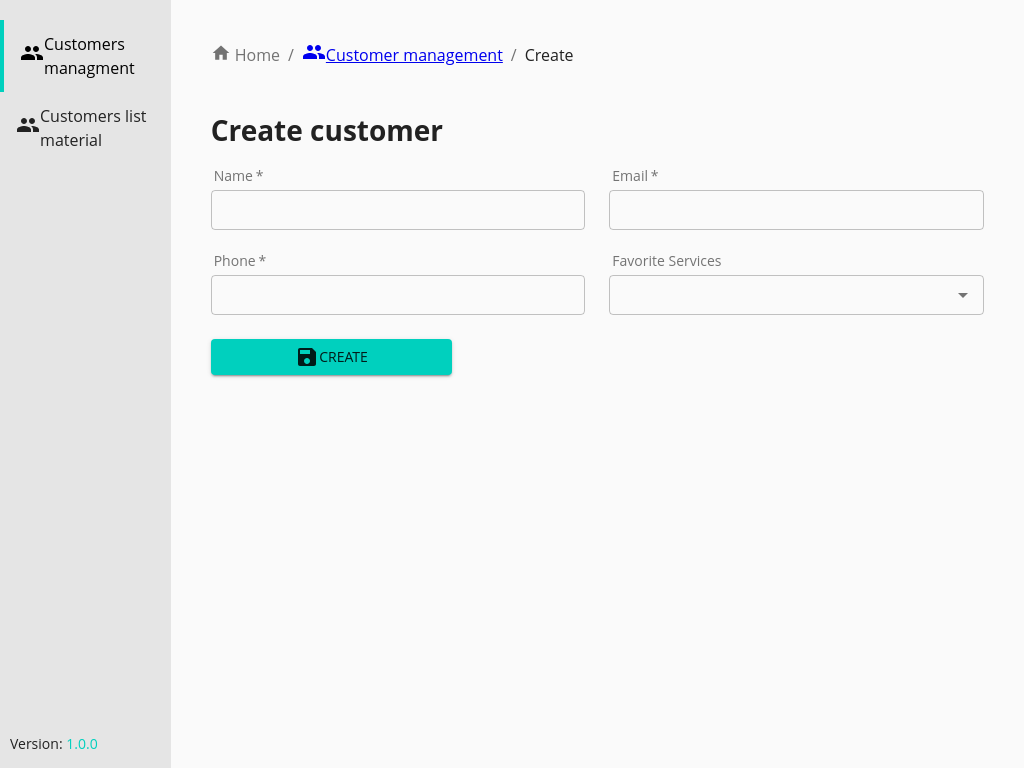
Test: Customers: Create Customer › Customer Form component › Test name input as Controlled component
The width and height of the screenshot is (1024, 768).
In the field named "name": (399, 210) [211,190,586,230], type "test"
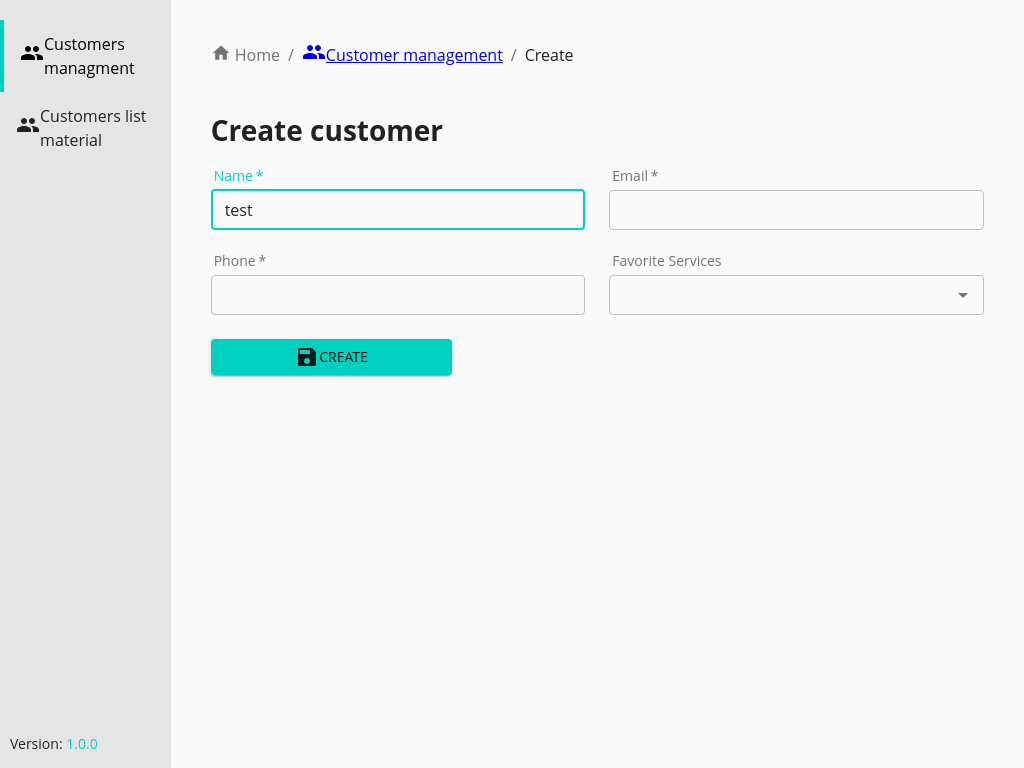
Clear the field named "name": (399, 210) [211,190,586,230]
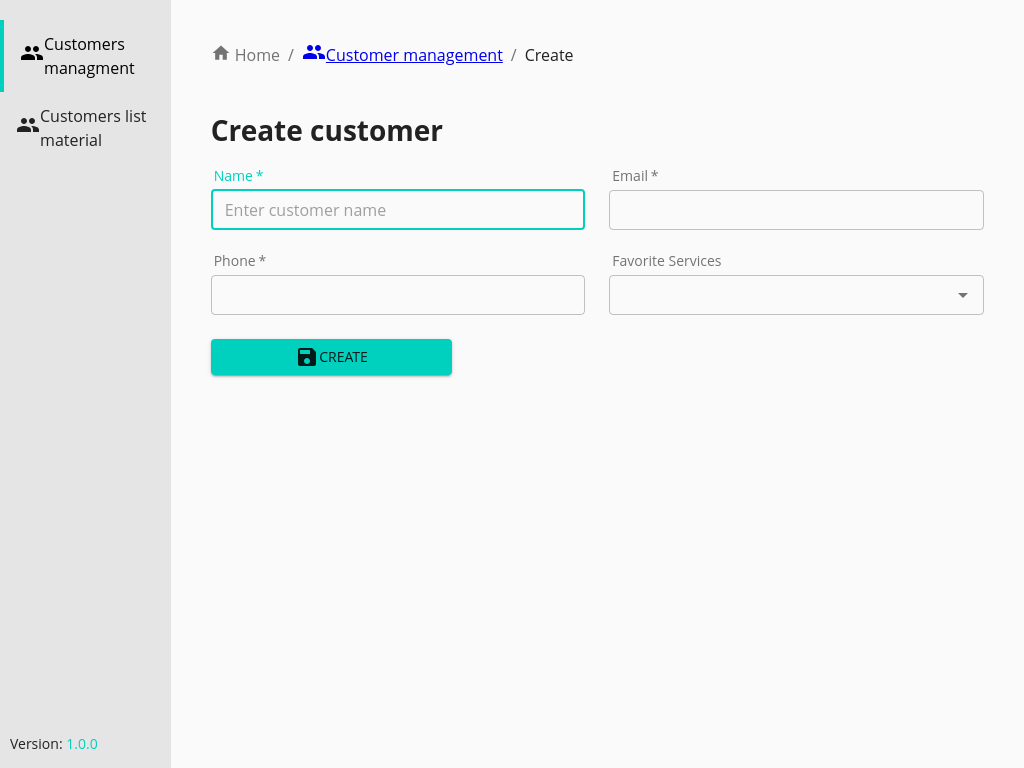
Leave the field named "name", box [211,190,586,230]
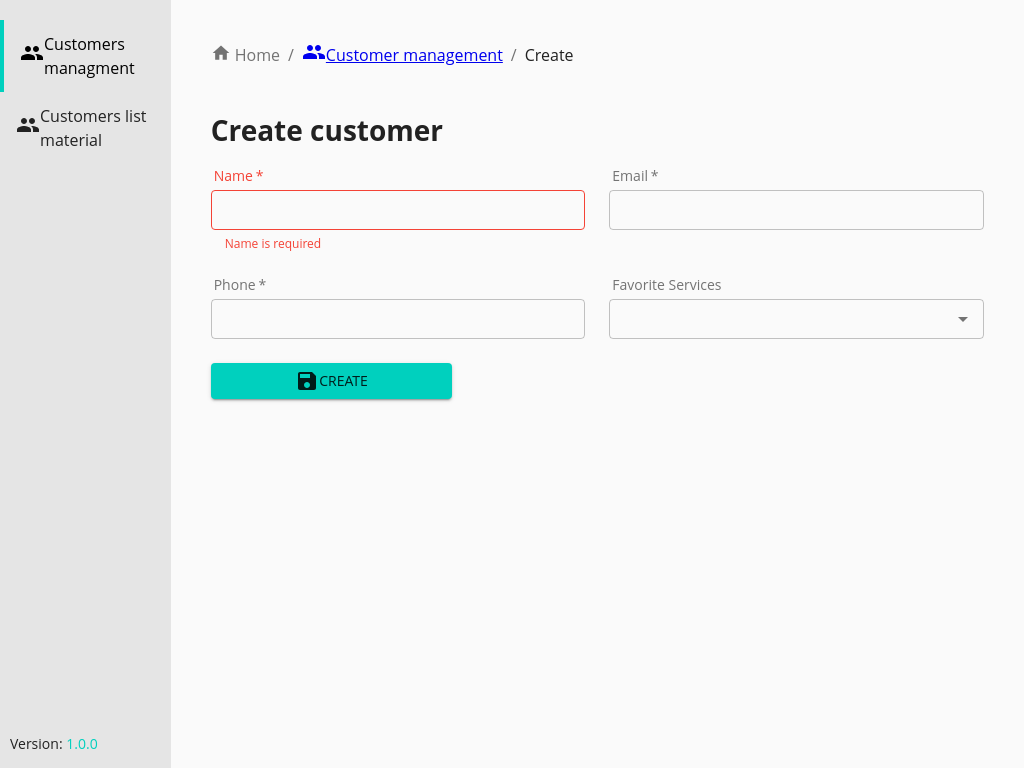
Check: the text "Name is required" is shown, box [225,235,321,252]
Check: the text with id "input-text-name-Name-helper-text" reads "Name is required", box [225,235,322,252]
